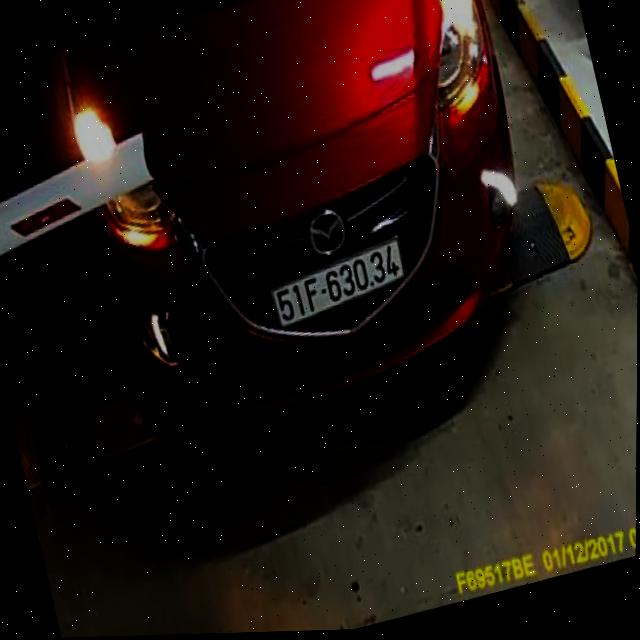car: (33, 0, 571, 460)
plate: (263, 235, 412, 332)
